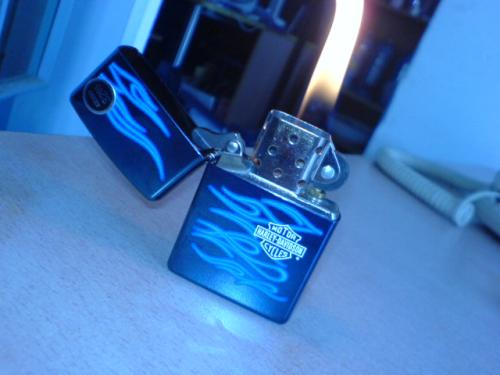Fire: (297, 0, 365, 129)
